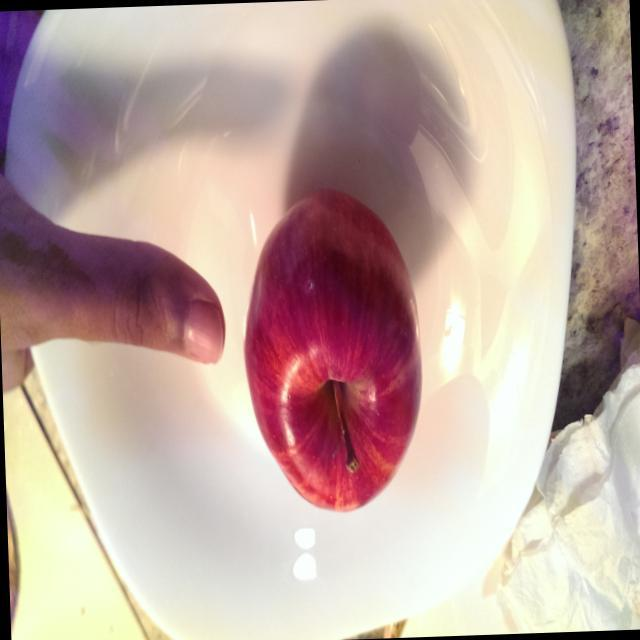Apple: (232, 176, 434, 524)
Finger: (89, 224, 229, 372)
